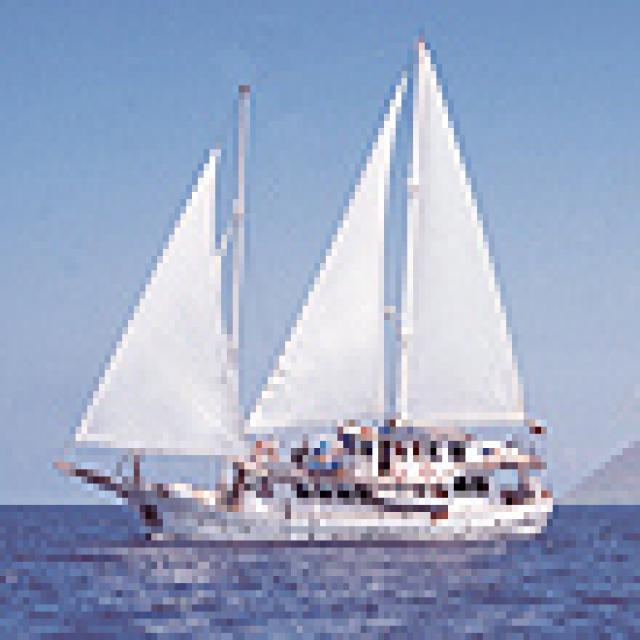Ship: (64, 42, 552, 548)
